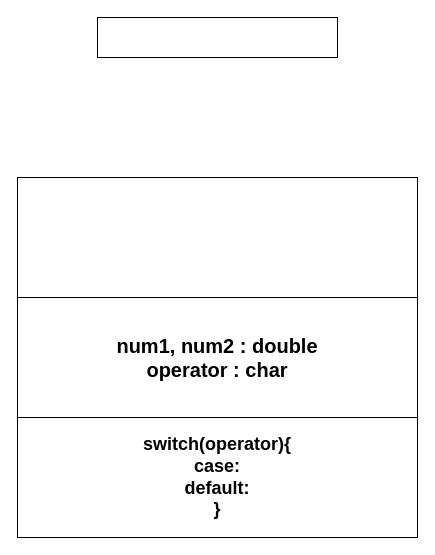
Image size: 435x555. Some labels were removed from this diagram. Here are the shapes that lost their labels. From the top down, the centre of each, then its label:
(217,37): UML Class Diagram
(217,237): Java Example
